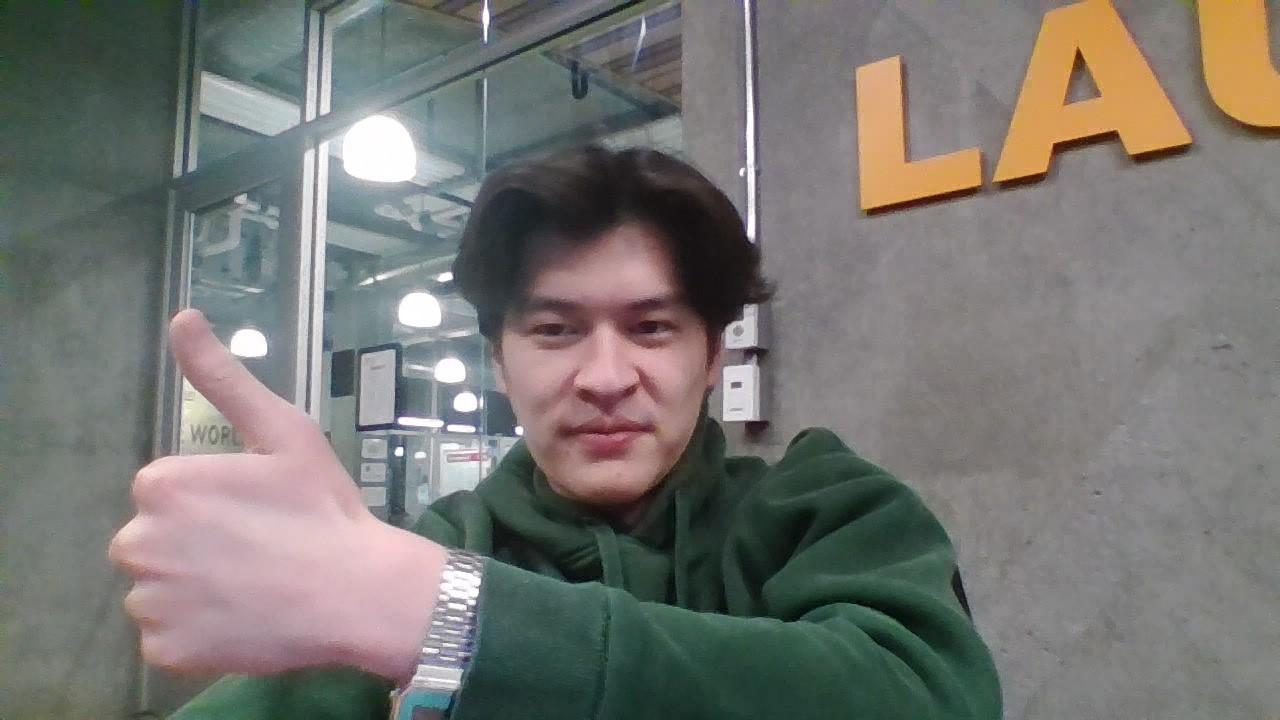thumbsUp: (111, 308, 341, 678)
